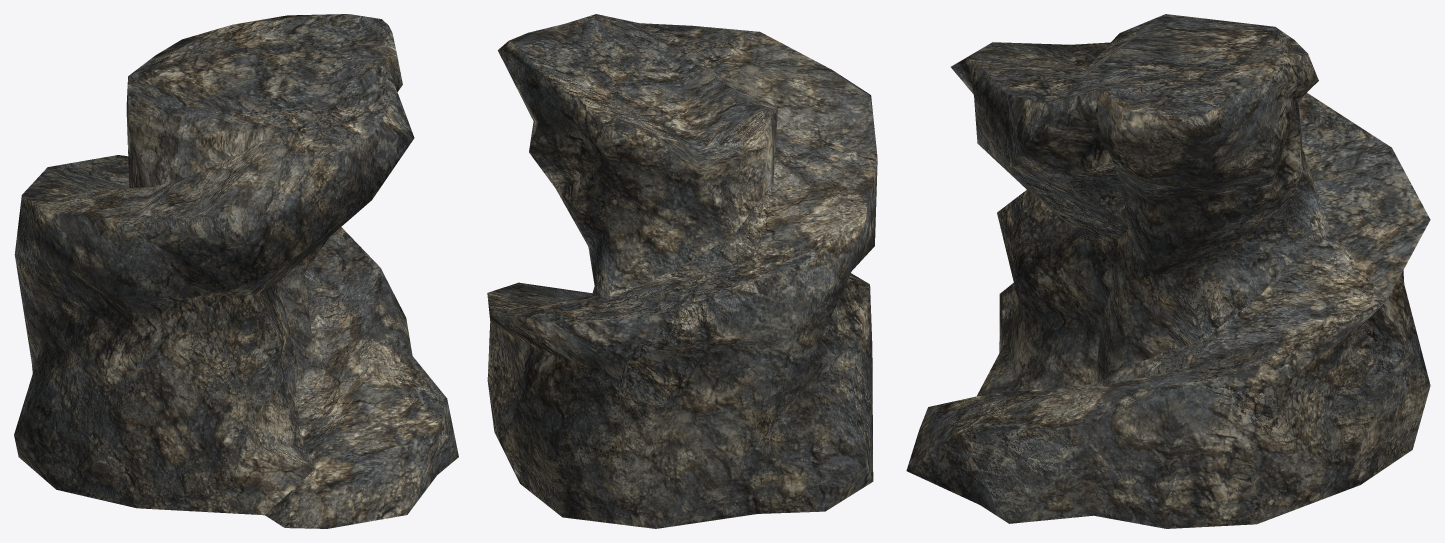
The model's file is Module24B_LOD2.fbx.
3 views of the same model, side by side, from view 1: azimuth 30°, elevation 25°; view 2: azimuth 150°, elevation 25°; view 3: azimuth 270°, elevation 25° (orthographic). The views are drawn at different scales.
Parts seen in each view (by area): view 1: cave_el24B_1000_Group60959; view 2: cave_el24B_1000_Group60959; view 3: cave_el24B_1000_Group60959.
Part boxes in pixels (bbox=[...]): cave_el24B_1000_Group60959: bbox=[14, 14, 458, 528]; cave_el24B_1000_Group60959: bbox=[487, 14, 877, 528]; cave_el24B_1000_Group60959: bbox=[906, 14, 1430, 528].
Bounding box in the file's own units: 19.45 × 18.78 × 21.35.
